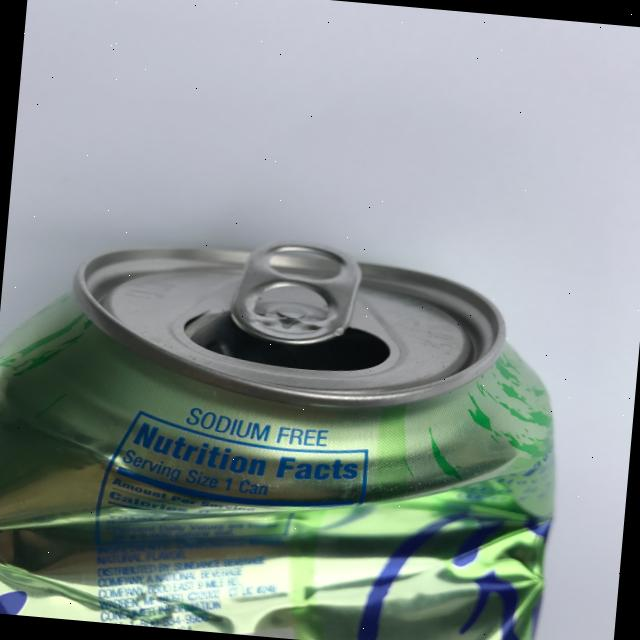metal: (0, 213, 596, 640)
